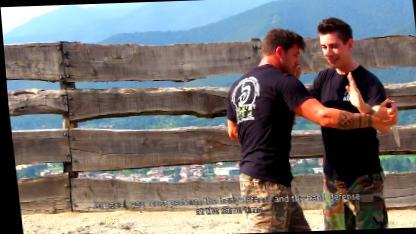knife: (378, 96, 401, 148)
